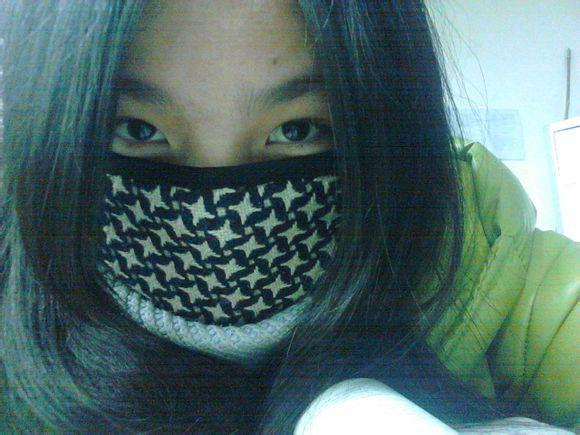OK: (77, 51, 371, 345)
